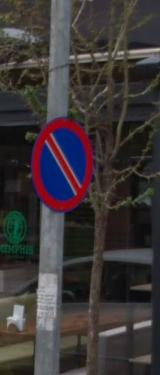nopark: (29, 118, 93, 210)
